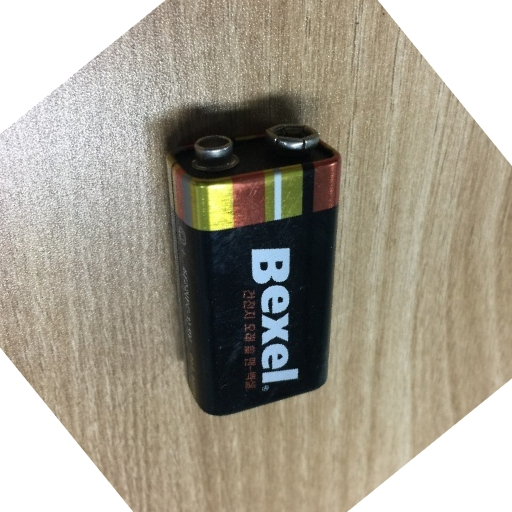Battery_3: (157, 107, 372, 427)
